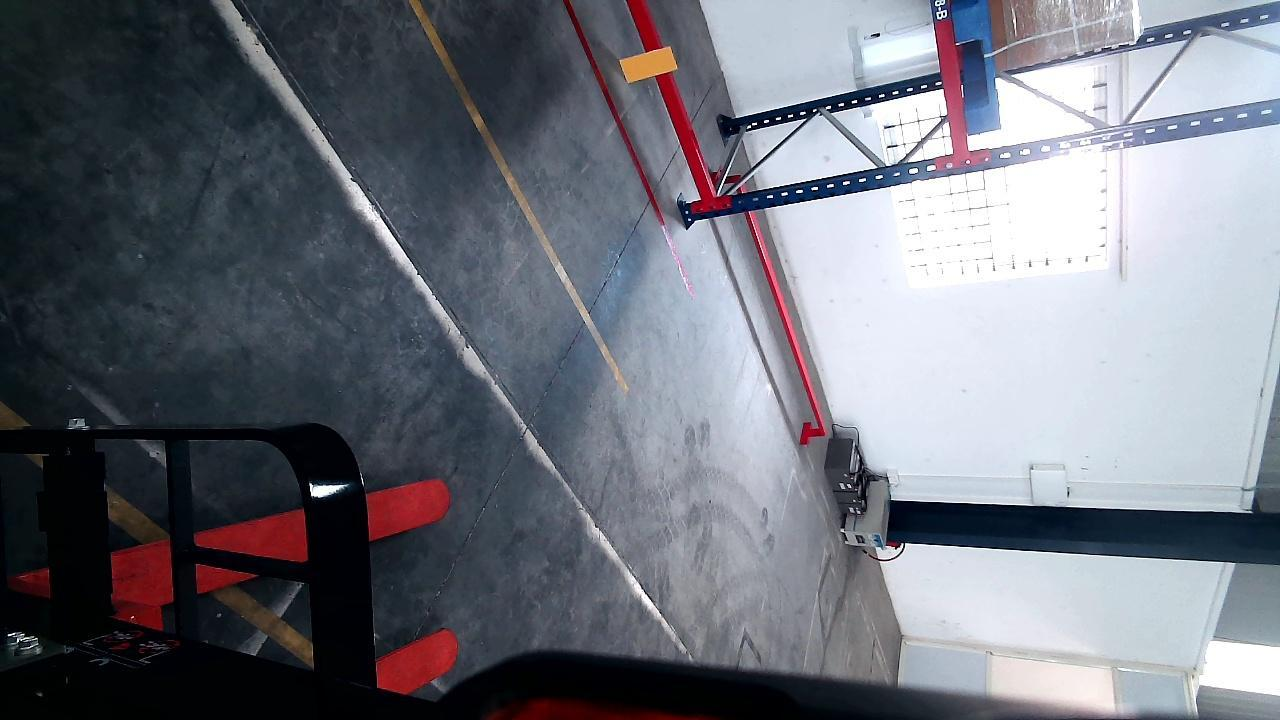red_line: (562, 5, 695, 297)
yellow_line: (405, 1, 628, 395), (2, 402, 311, 668)
